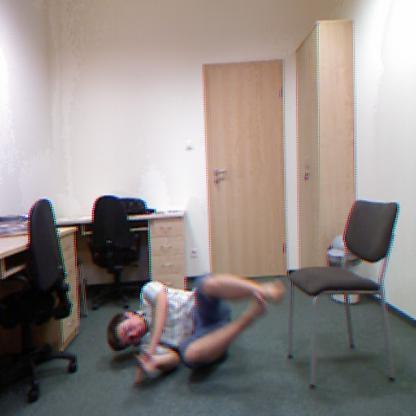fall: (98, 276, 282, 377)
